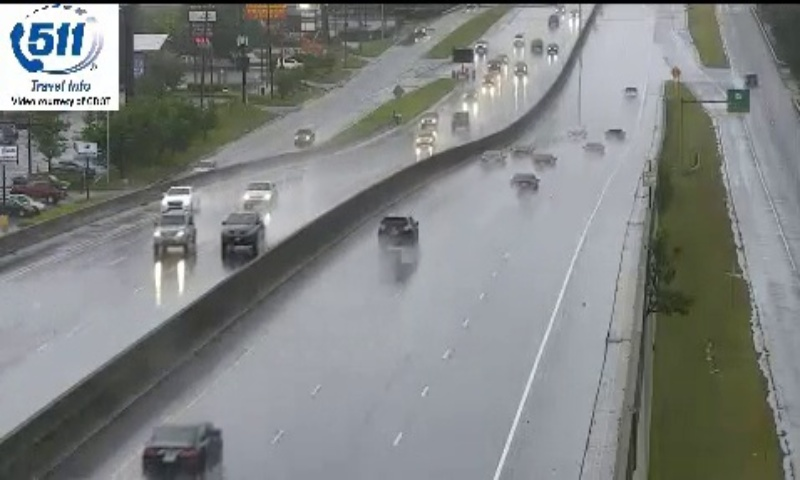car: (142, 422, 222, 480), (378, 215, 418, 249), (509, 172, 539, 197)
